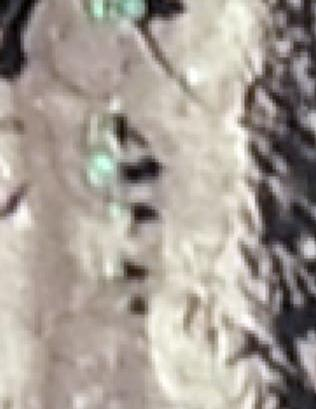cotton: (90, 2, 143, 19), (91, 154, 114, 180), (112, 202, 125, 216)
